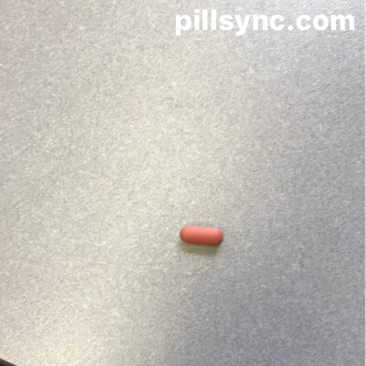Ibuprofen 200 MG Oral Tablet: (177, 220, 225, 253)
